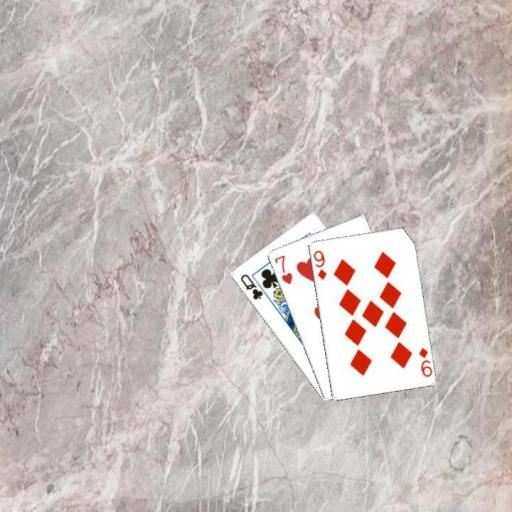7H: (271, 252, 294, 286)
9D: (310, 247, 328, 281), (416, 344, 433, 378)
QC: (237, 271, 264, 301)
